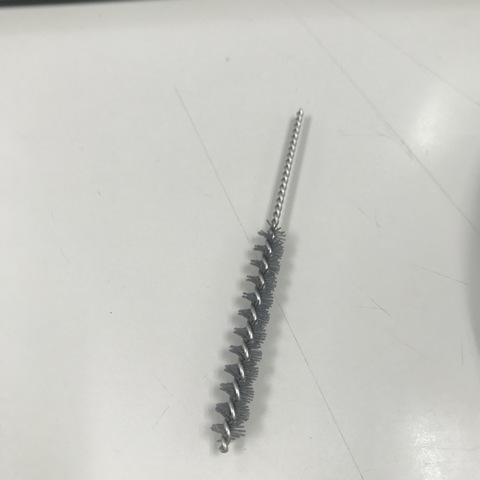Twist Brush-A: (206, 104, 320, 455)
